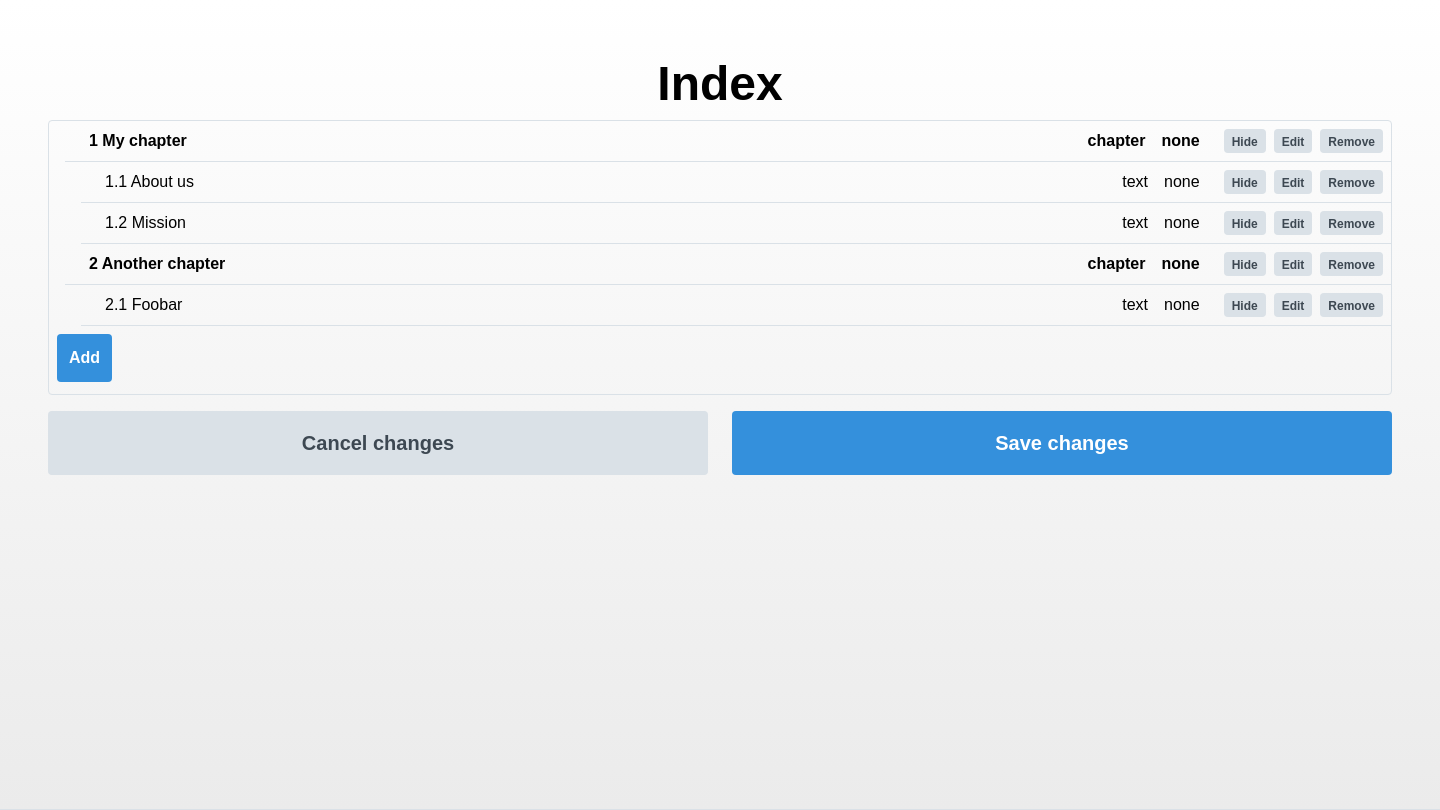
it: IndexEditor.vue › hides the list when the form is visible
The width and height of the screenshot is (1440, 810).
Click the button with class "edit" in the row of "1.1 About us".
click(1293, 182)  # box [1274, 170, 1312, 194]
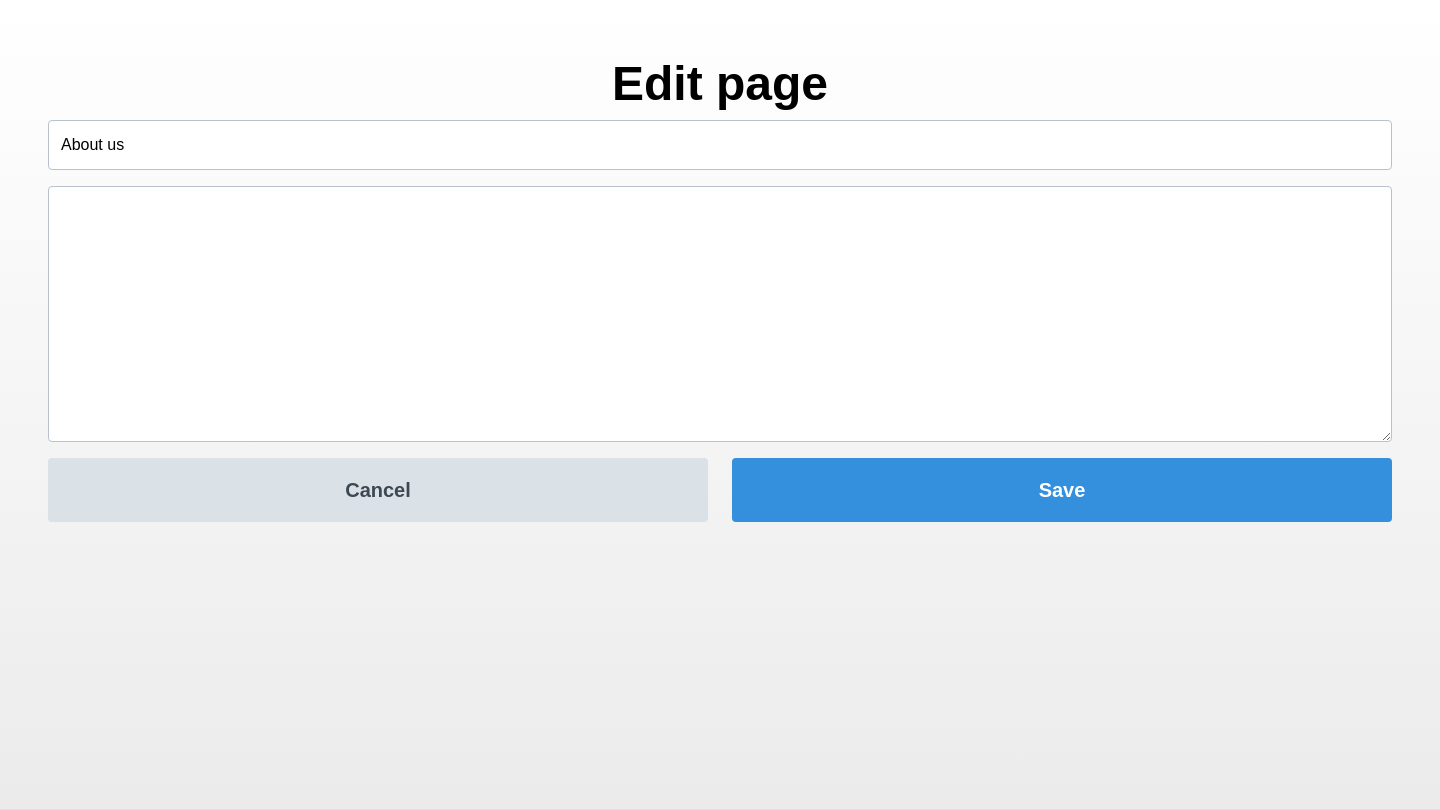
Expected: the element with id "editor" is gone
